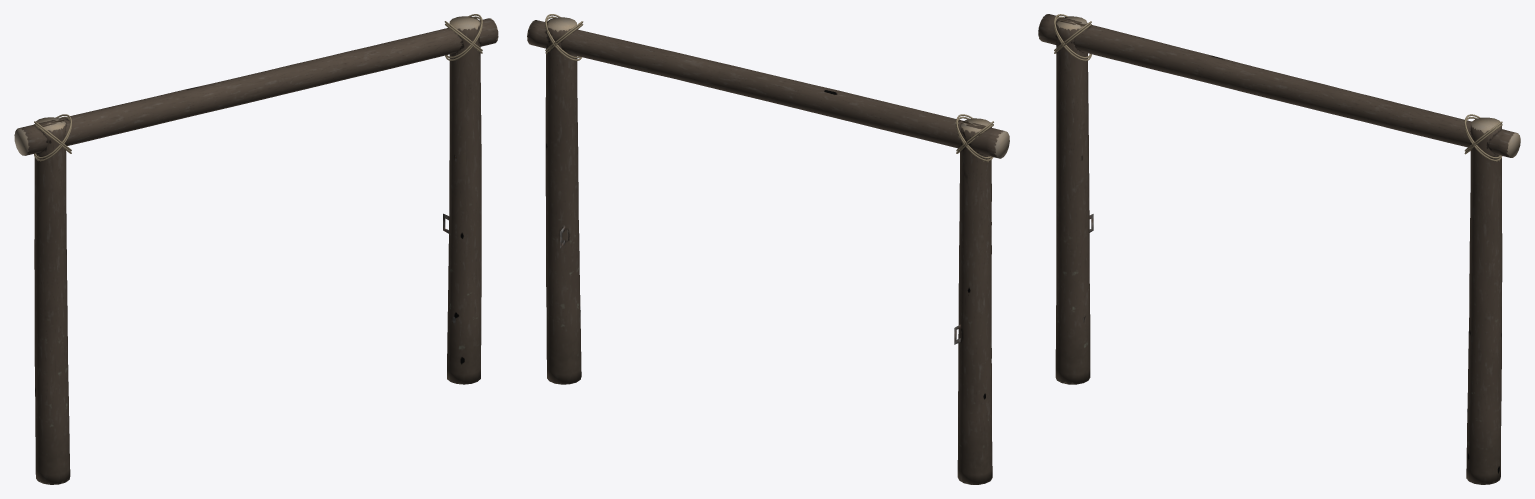
The model's file is SM_SiegeGate_Frame.fbx.
3 renders of one model, left to right at view 1: azimuth 30°, elevation 25°; view 2: azimuth 150°, elevation 25°; view 3: azimuth 330°, elevation 25°, orthographic.
Parts seen in each view (by area): view 1: SM_SiegeGate_Frame; view 2: SM_SiegeGate_Frame; view 3: SM_SiegeGate_Frame.
Part boxes in pixels (<box>): SM_SiegeGate_Frame: <box>14,14,498,484</box>; SM_SiegeGate_Frame: <box>527,14,1009,484</box>; SM_SiegeGate_Frame: <box>1038,14,1520,484</box>.
Bounding box in the file's own units: 716 × 57.93 × 522.
